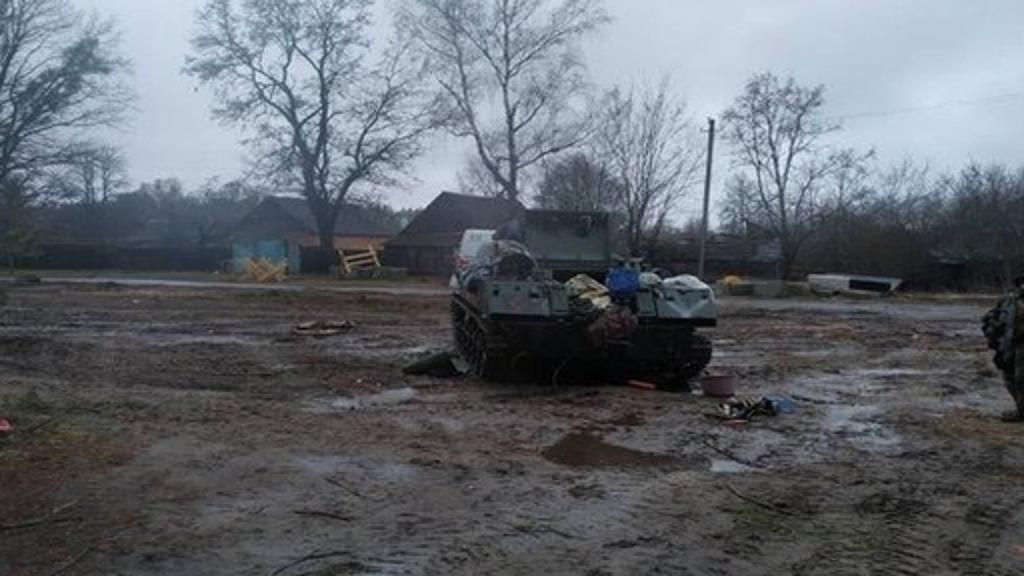APC-IFV: (436, 204, 722, 398)
